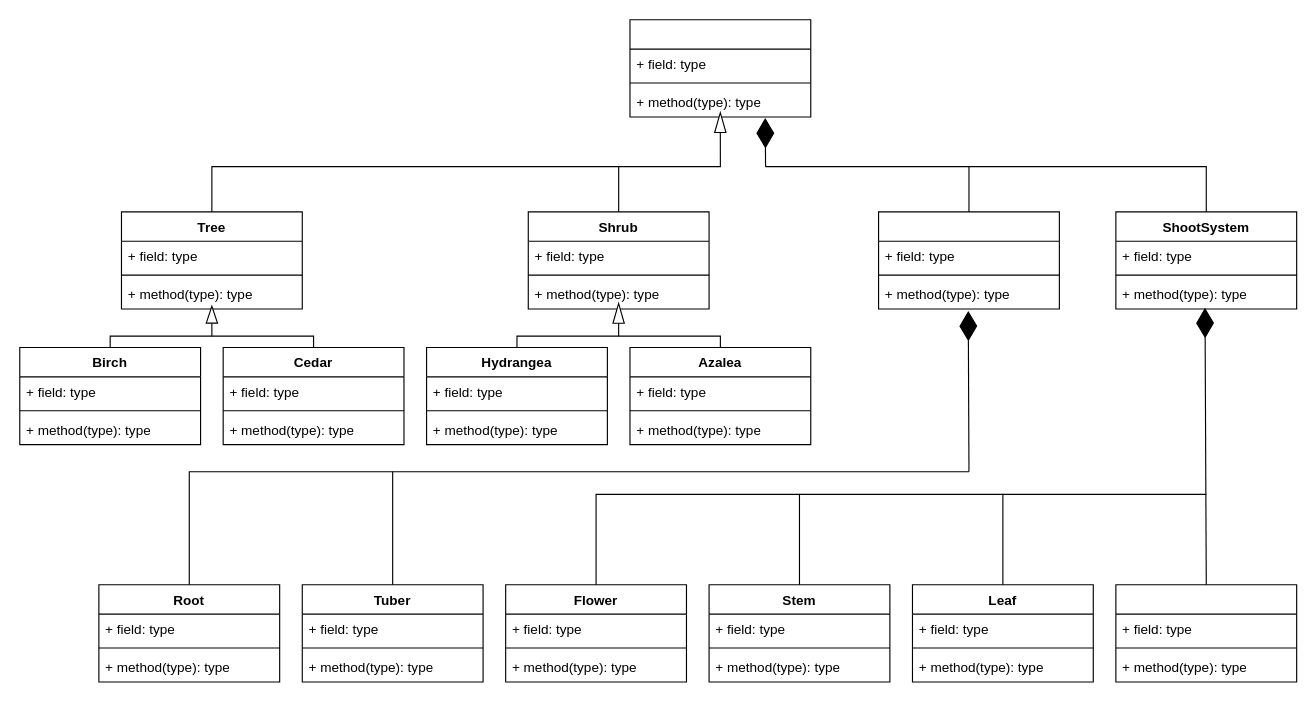
This 1316x705 diagram has some shape labels left out. The box of each missing label's shape, as (x1, y1, x2, y2) in pixels:
Fruit: (1115, 584, 1297, 682)
Plant: (629, 19, 811, 117)
RootSystem: (877, 211, 1059, 309)
